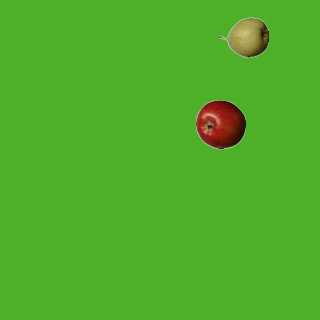Apple Braeburn: (195, 99, 245, 149)
Pear: (218, 12, 268, 62)
